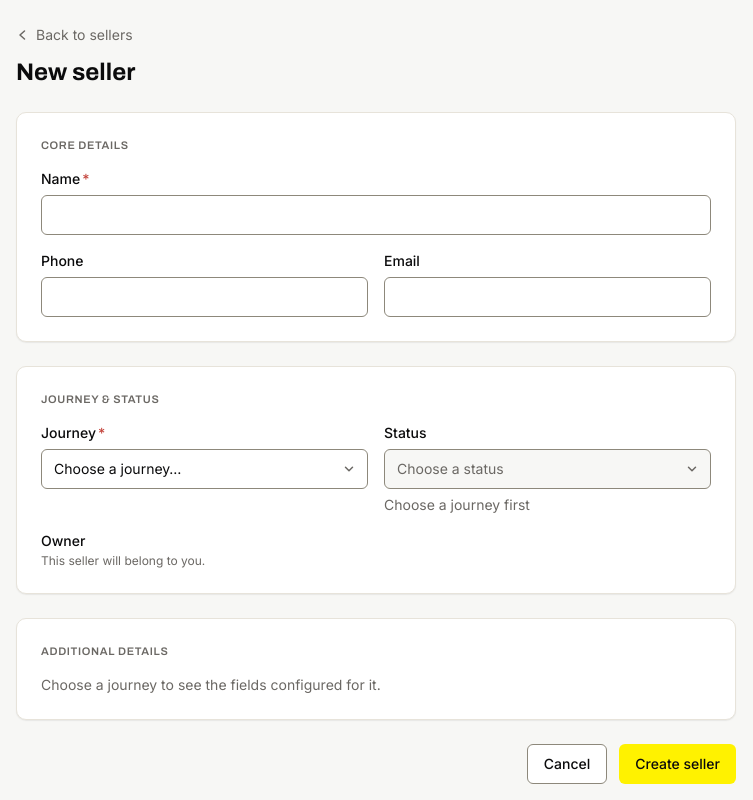
it: lead form assignment types › requires an explicit status when the journey has no default-on-create
Type "Synthetic Co" into the field labelled "Name*" at (376, 215), box [41, 195, 711, 235]
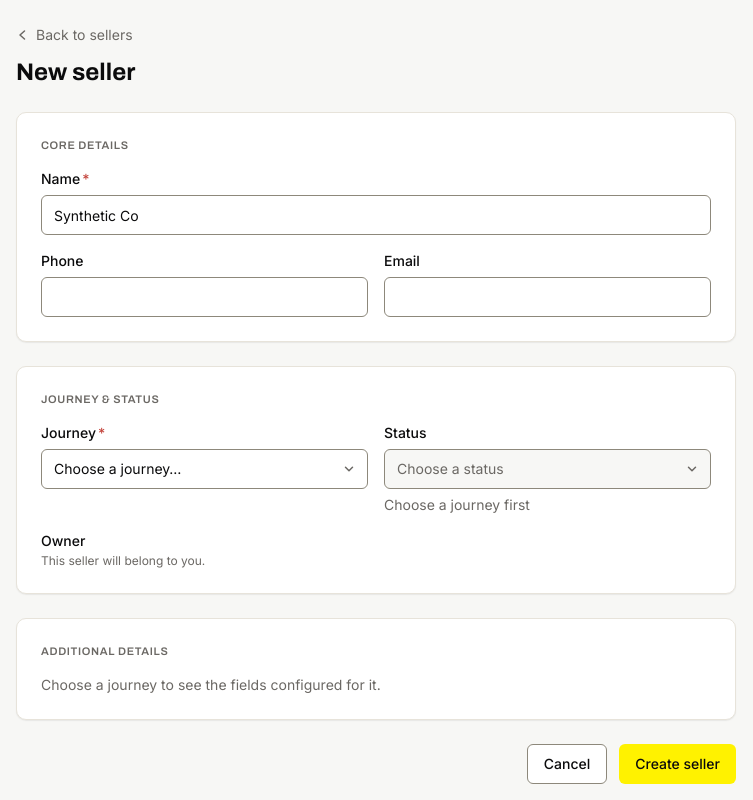
Select "Journey Alpha" in the dropdown labelled "Journey*" at (204, 469), box [41, 449, 368, 489]
(page scrolled)
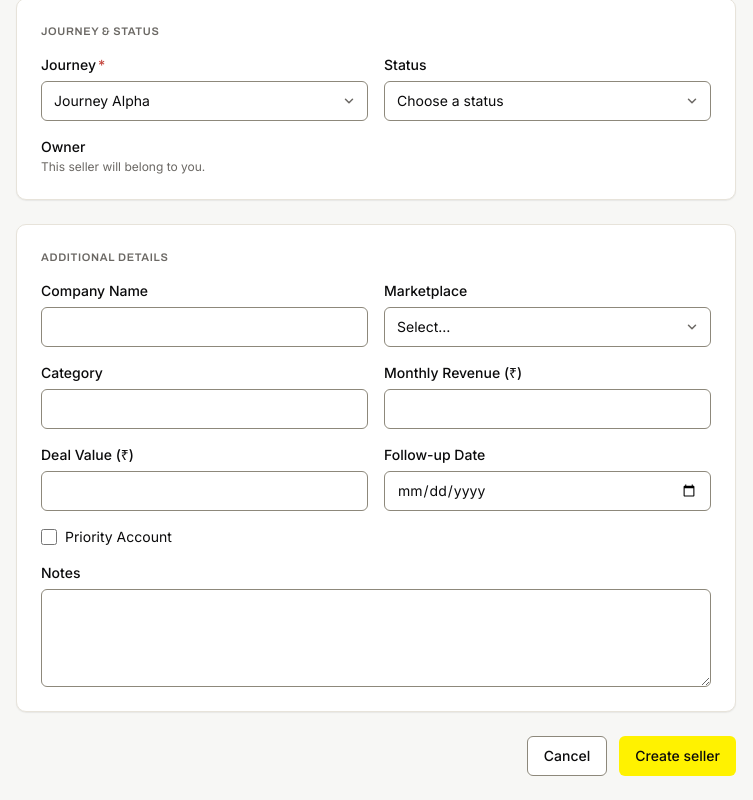
Click the button "Create seller" at (678, 756), box [619, 736, 736, 776]
(page scrolled)
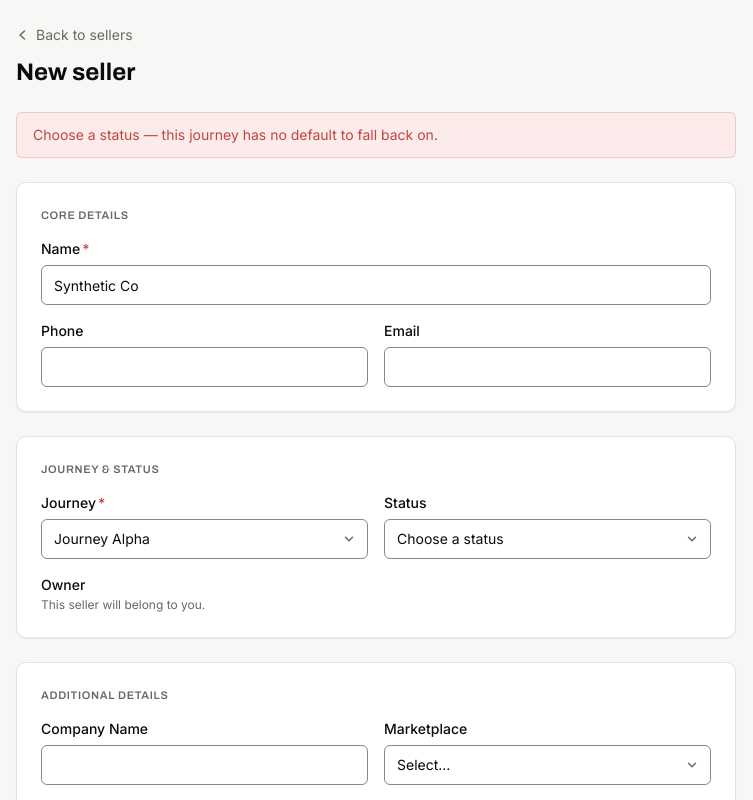
Expected: the message shows "Choose a status", [33, 126, 438, 143]
